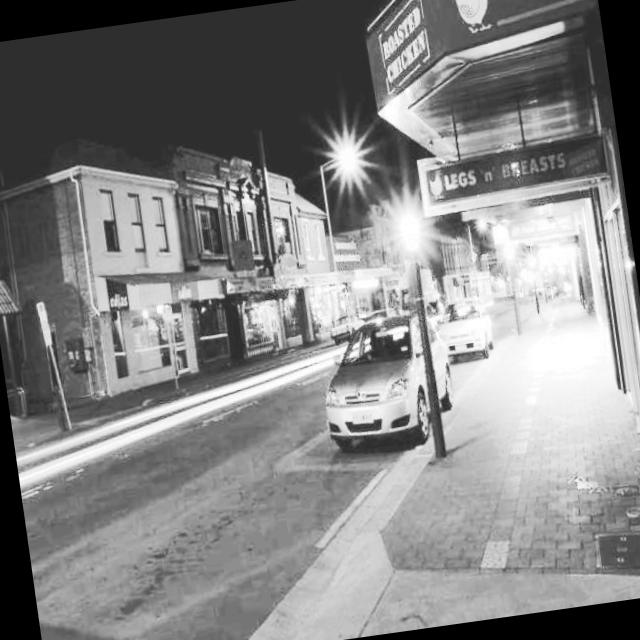Car: (311, 285, 462, 467), (426, 264, 516, 381)
